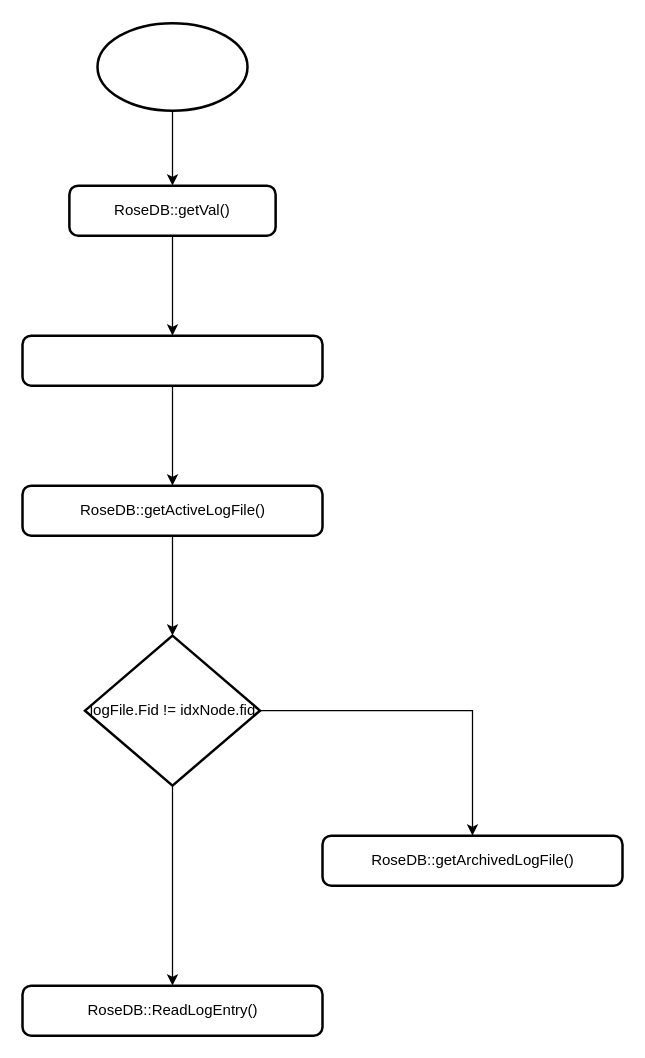
Some shapes in this 645 by 1058 pixel diagram are drawn without their labels. Each missing label, with the centre of its shape:
"AdaptiveRadixTree::Get()" goes at pixel 172 360.
"RoseDB::Get()" goes at pixel 172 66.
